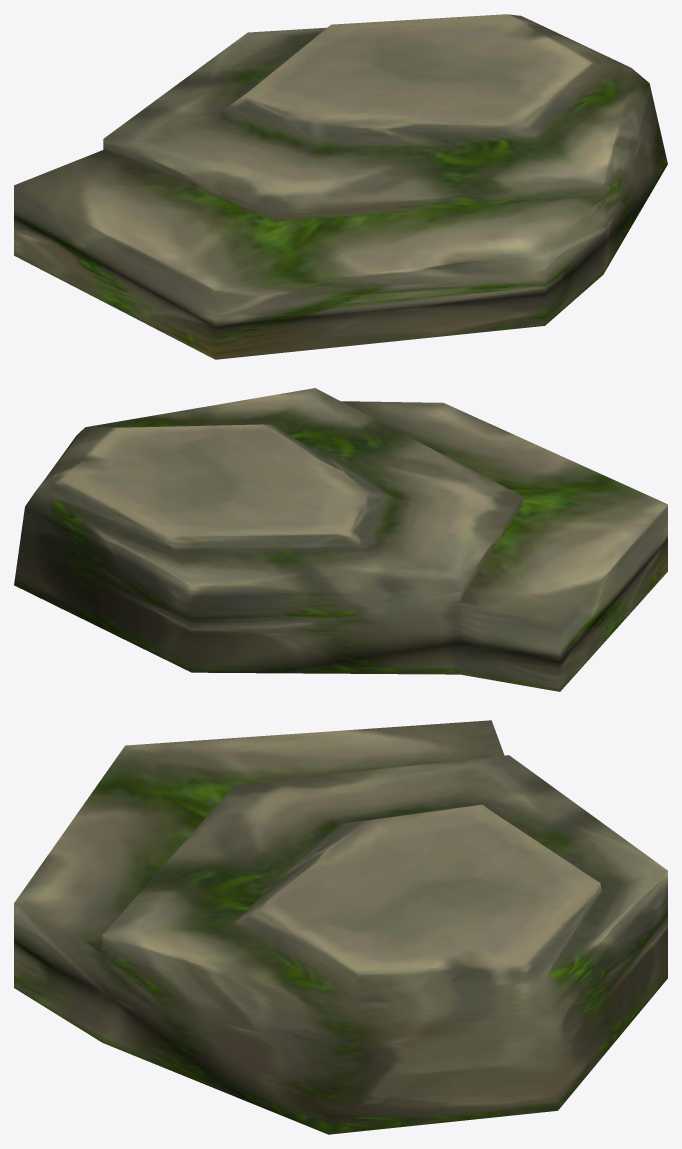
The model's file is RockFormation_4_5 (18).fbx.
The picture shows the model from 3 angles, top to bottom: view 1: azimuth 30°, elevation 25°; view 2: azimuth 150°, elevation 25°; view 3: azimuth 270°, elevation 25°; orthographic projection. The views are drawn at different scales.
Visible parts, largest first — view 1: RockFormation_4_5 (18); view 2: RockFormation_4_5 (18); view 3: RockFormation_4_5 (18).
Part boxes in pixels (x1,y1,x2,y2): RockFormation_4_5 (18): (14, 14, 667, 359); RockFormation_4_5 (18): (14, 388, 667, 691); RockFormation_4_5 (18): (14, 720, 667, 1134).
Size of the model in its own units: 106 by 18.74 by 88.08.
Materials: 1 (1 with a texture image).
